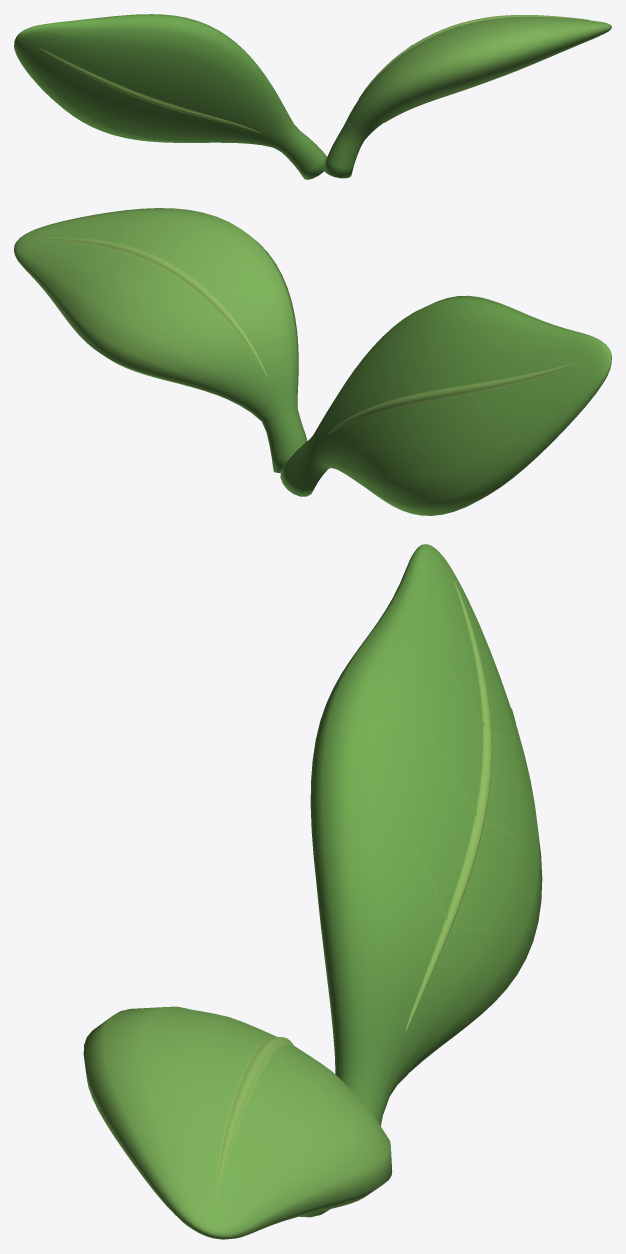
File: Cosmetic_Wind_Leaves.glb
3 renders of one model, top to bottom at view 1: azimuth 30°, elevation 25°; view 2: azimuth 150°, elevation 25°; view 3: azimuth 270°, elevation 25°, orthographic. The views are drawn at different scales.
Parts seen in each view (by area): view 1: Cosmetic_Wind_Leaves; view 2: Cosmetic_Wind_Leaves; view 3: Cosmetic_Wind_Leaves.
Boxes of the visible parts, bbox=[...] form: Cosmetic_Wind_Leaves: bbox=[14, 14, 611, 179]; Cosmetic_Wind_Leaves: bbox=[14, 208, 611, 515]; Cosmetic_Wind_Leaves: bbox=[83, 544, 542, 1239].
Bounding box in the file's own units: 0.7086 × 0.2527 × 0.262.
